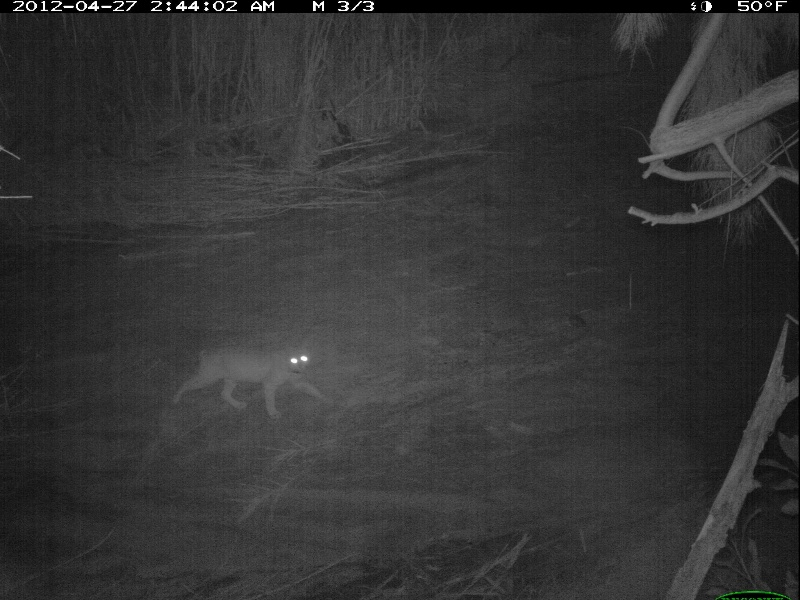cat: (178, 341, 333, 416)
